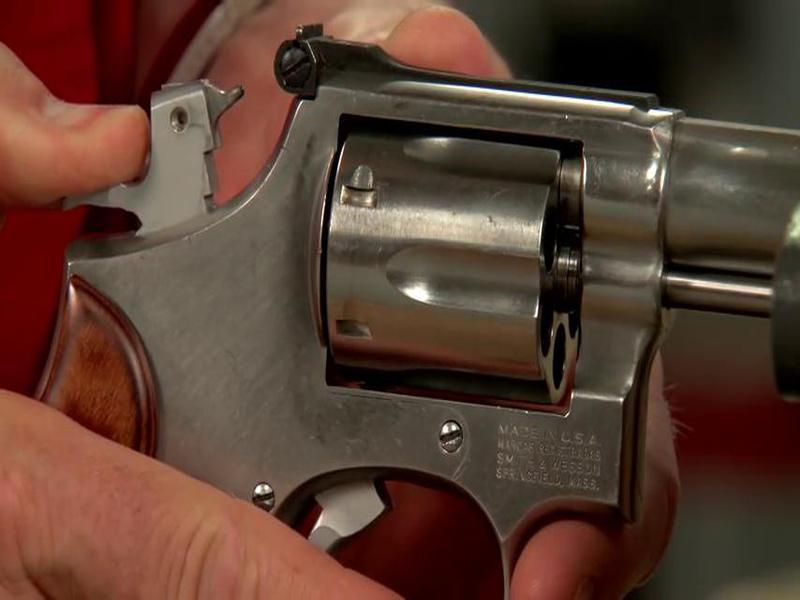Revolver: (62, 8, 800, 574)
